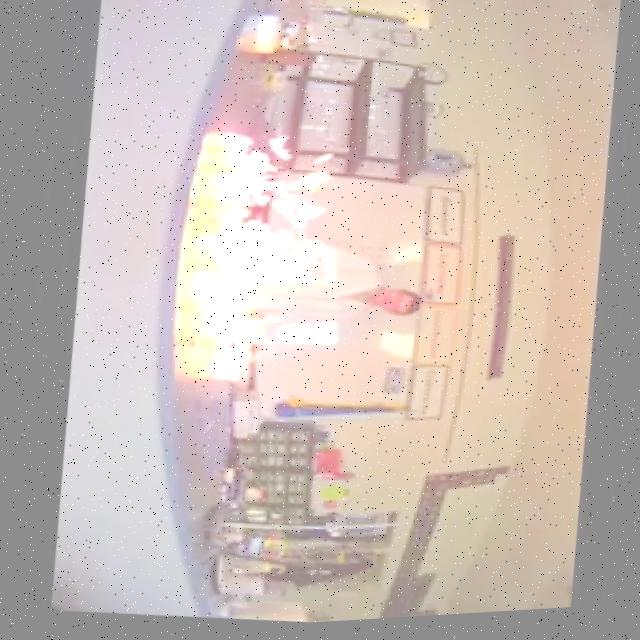Fire: (183, 118, 355, 401)
